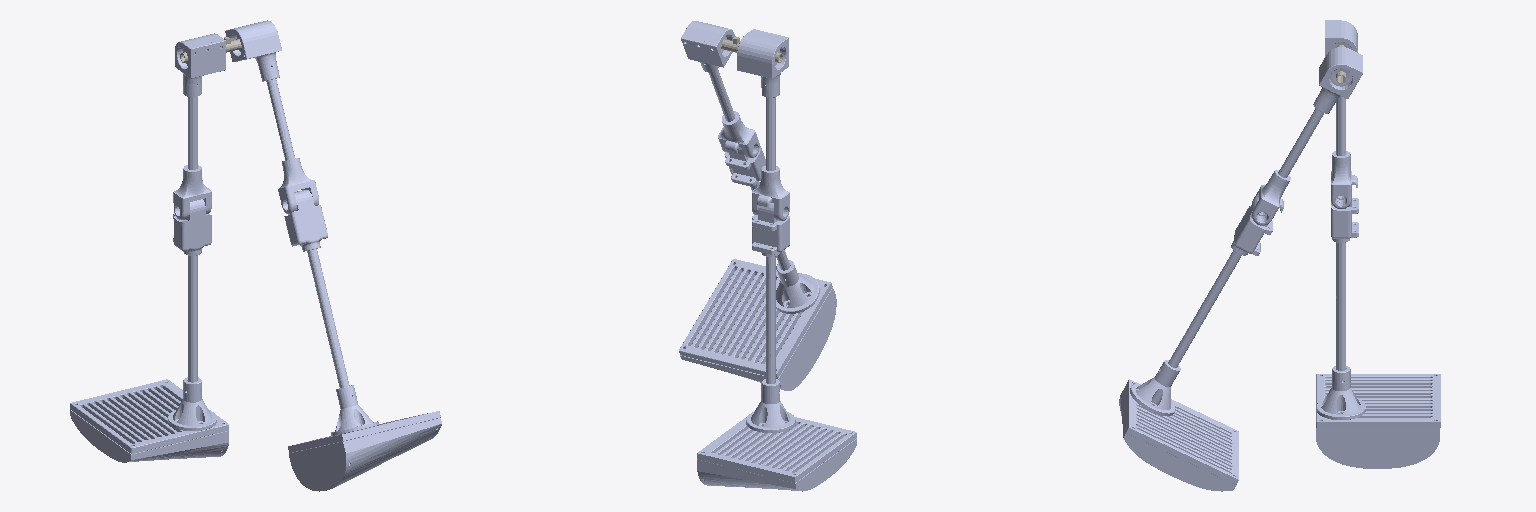
robot.urdf — walker_design_5:
<?xml version="1.0" encoding="utf-8"?>
<!-- This URDF was automatically created by SolidWorks to URDF Exporter! Originally created by [author] ([email redacted]) 
     Commit Version: 1.6.0-4-g7f85cfe  Build Version: 1.6.7995.38578
     For more information, please see http://wiki.ros.org/sw_urdf_exporter -->
<robot
  name="walker_design_5">
  <link
    name="hip_link">
    <inertial>
      <origin
        xyz="-1.3878E-17 5.5511E-17 0.00036588"
        rpy="0 0 0" />
      <mass
        value="0.023249" />
      <inertia
        ixx="5.1362E-07"
        ixy="2.7396E-21"
        ixz="-2.7818E-21"
        iyy="1.8805E-05"
        iyz="-1.6411E-21"
        izz="1.8752E-05" />
    </inertial>
    <visual>
      <origin
        xyz="0 0 0"
        rpy="0 0 0" />
      <geometry>
        <mesh
          filename="package://walker_design_5/meshes/hip_link.STL" />
      </geometry>
      <material
        name="">
        <color
          rgba="0.77647 0.75686 0.73725 1" />
      </material>
    </visual>
    <collision>
      <origin
        xyz="0 0 0"
        rpy="0 0 0" />
      <geometry>
        <mesh
          filename="package://walker_design_5/meshes/hip_link.STL" />
      </geometry>
    </collision>
  </link>
  <link
    name="left_leg_link">
    <inertial>
      <origin
        xyz="-0.0053966 0.028086 -0.35902"
        rpy="0 0 0" />
      <mass
        value="0.51157" />
      <inertia
        ixx="0.00049543"
        ixy="4.1393E-08"
        ixz="3.0629E-05"
        iyy="0.00048163"
        iyz="5.26E-07"
        izz="0.00083144" />
    </inertial>
    <visual>
      <origin
        xyz="0 0 0"
        rpy="0 0 0" />
      <geometry>
        <mesh
          filename="package://walker_design_5/meshes/left_leg_link.STL" />
      </geometry>
      <material
        name="">
        <color
          rgba="0.79216 0.81961 0.93333 1" />
      </material>
    </visual>
    <collision>
      <origin
        xyz="0 0 0"
        rpy="0 0 0" />
      <geometry>
        <mesh
          filename="package://walker_design_5/meshes/left_leg_link.STL" />
      </geometry>
    </collision>
  </link>
  <joint
    name="left_hip_joint"
    type="revolute">
    <origin
      xyz="-0.05 0 4.0123E-05"
      rpy="0 0 0" />
    <parent
      link="hip_link" />
    <child
      link="left_leg_link" />
    <axis
      xyz="1 0 0" />
    <limit
      lower="-2"
      upper="2"
      effort="100000"
      velocity="100" />
  </joint>
  <link
    name="right_leg_link">
    <inertial>
      <origin
        xyz="0.0048563 0.028736 -0.35902"
        rpy="0 0 0" />
      <mass
        value="0.51157" />
      <inertia
        ixx="0.00049545"
        ixy="5.4691E-08"
        ixz="-3.0645E-05"
        iyy="0.00048164"
        iyz="-2.9571E-07"
        izz="0.00083146" />
    </inertial>
    <visual>
      <origin
        xyz="0 0 0"
        rpy="0 0 0" />
      <geometry>
        <mesh
          filename="package://walker_design_5/meshes/right_leg_link.STL" />
      </geometry>
      <material
        name="">
        <color
          rgba="0.79216 0.81961 0.93333 1" />
      </material>
    </visual>
    <collision>
      <origin
        xyz="0 0 0"
        rpy="0 0 0" />
      <geometry>
        <mesh
          filename="package://walker_design_5/meshes/right_leg_link.STL" />
      </geometry>
    </collision>
  </link>
  <joint
    name="right_hip_joint"
    type="revolute">
    <origin
      xyz="0.05 0 4.0123E-05"
      rpy="-0.48379 0 0" />
    <parent
      link="hip_link" />
    <child
      link="right_leg_link" />
    <axis
      xyz="1 0 0" />
    <limit
      lower="-2"
      upper="2"
      effort="100000"
      velocity="100" />
  </joint>
</robot>

--- Facts derived from the render (not from the file) ---
Views: 3 orthographic renders of the robot side by side, from view 1: azimuth 30°, elevation 25°; view 2: azimuth 150°, elevation 25°; view 3: azimuth 270°, elevation 25°.
Model walker_design_5 with 3 links and 2 joints (2 revolute), rooted at hip_link, posed every joint at zero.
Links seen in each view (by area): view 1: left_leg_link, right_leg_link; view 2: right_leg_link, left_leg_link; view 3: left_leg_link, right_leg_link.
Link boxes in pixels (<box>): left_leg_link: <box>70,33,228,462</box>; right_leg_link: <box>225,20,441,491</box>; right_leg_link: <box>679,21,836,390</box>; left_leg_link: <box>697,29,856,491</box>; left_leg_link: <box>1316,20,1440,468</box>; right_leg_link: <box>1119,47,1362,491</box>.
Bounding box of the posed robot: 0.2431 × 0.3097 × 0.4593 m (x, y, z).
3 mesh visuals loaded from 3 distinct referenced files (3 binary STL).
